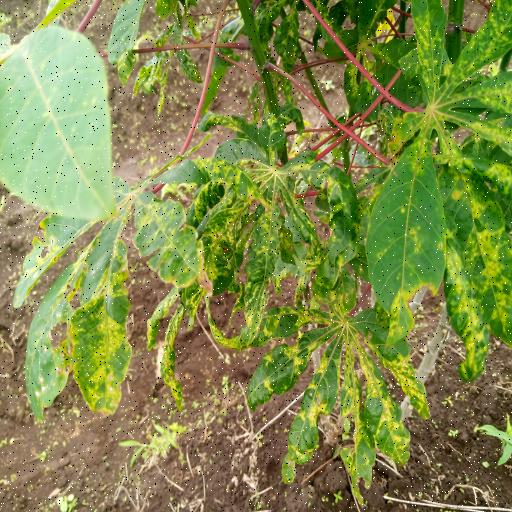Cassava_Mosaic: (9, 163, 209, 424), (392, 7, 508, 358), (236, 296, 436, 496), (194, 154, 358, 312)
